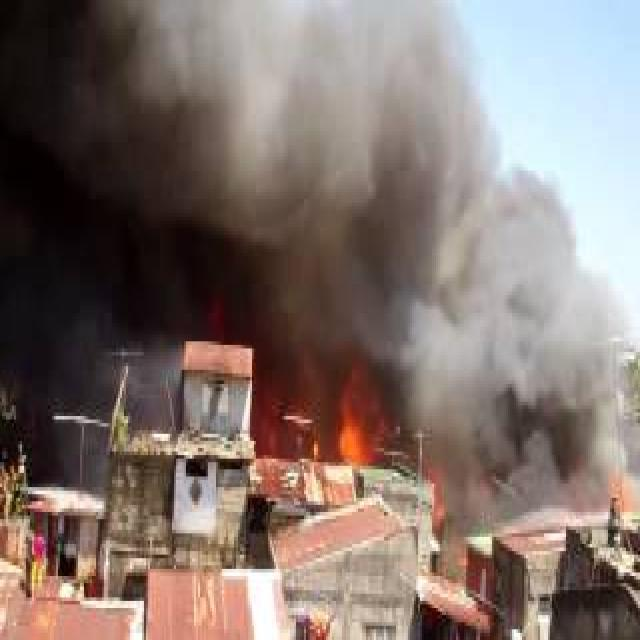Fire: (319, 382, 406, 478)
Smoke: (242, 4, 630, 500), (1, 3, 276, 334)
